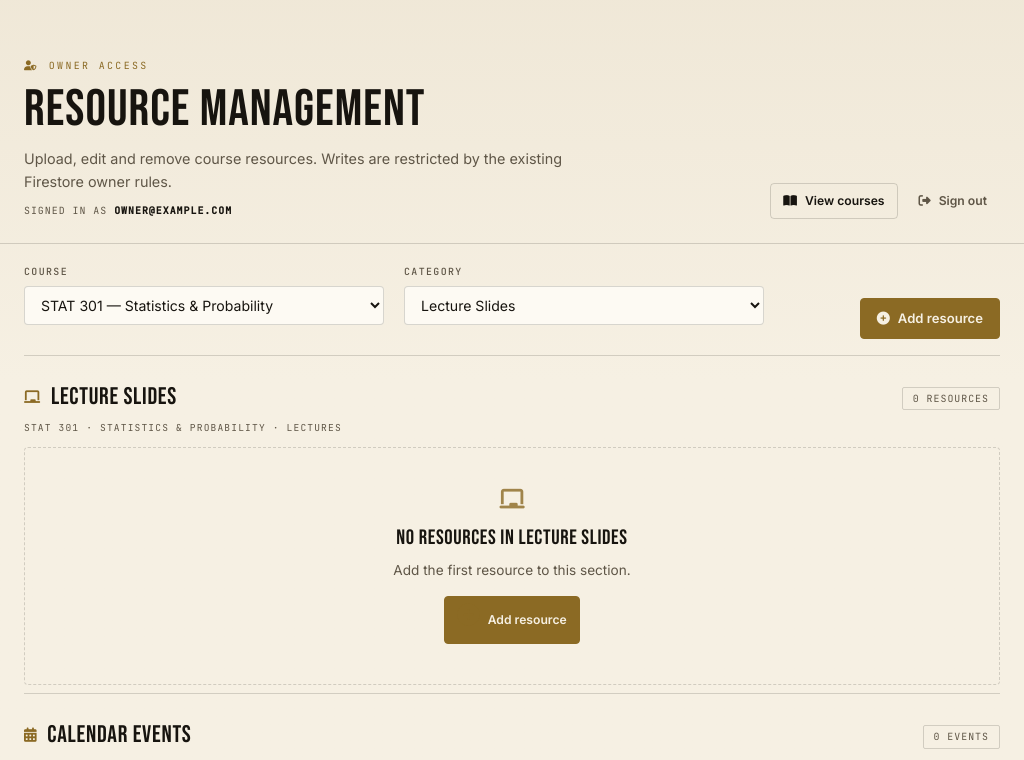
Test: AdminPage resource creation › creates a resource through the confirmed upload path with normalized links
Expected: the heading "No resources in Lecture Slides" is shown, top-left (396, 525), bottom-right (628, 550)
Click the 1st button "Add resource": click(930, 318) top-left (860, 298), bottom-right (1000, 339)
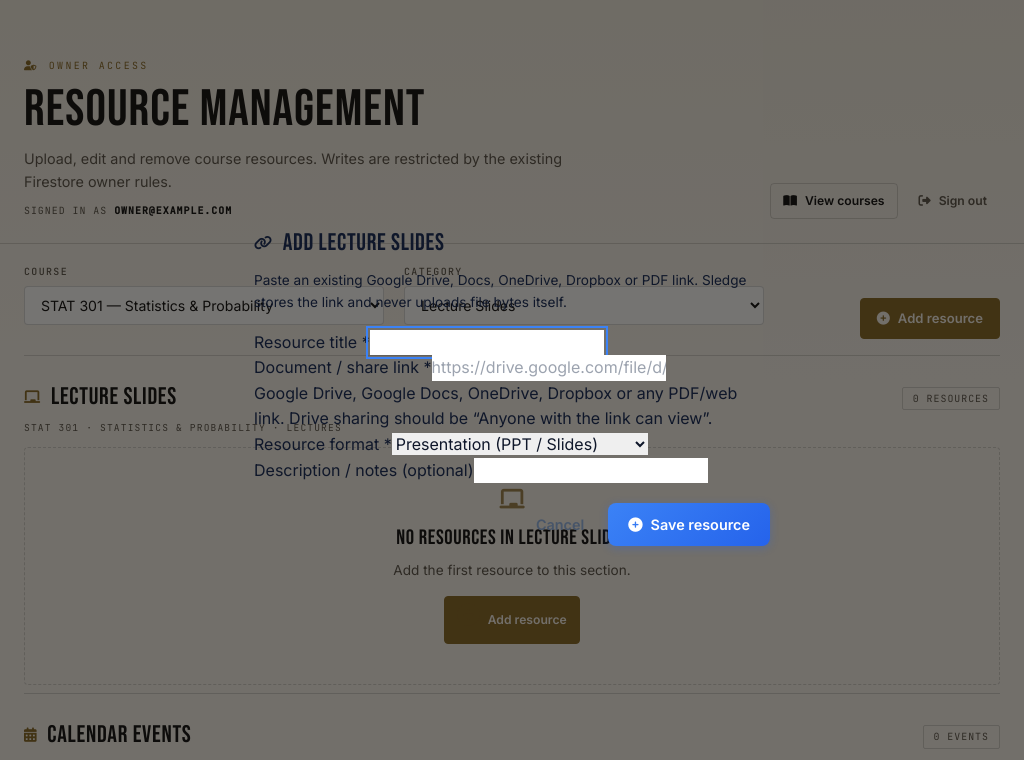
In the field labelled "Resource title *": (487, 342) top-left (370, 330), bottom-right (604, 355), type "Lecture 02"
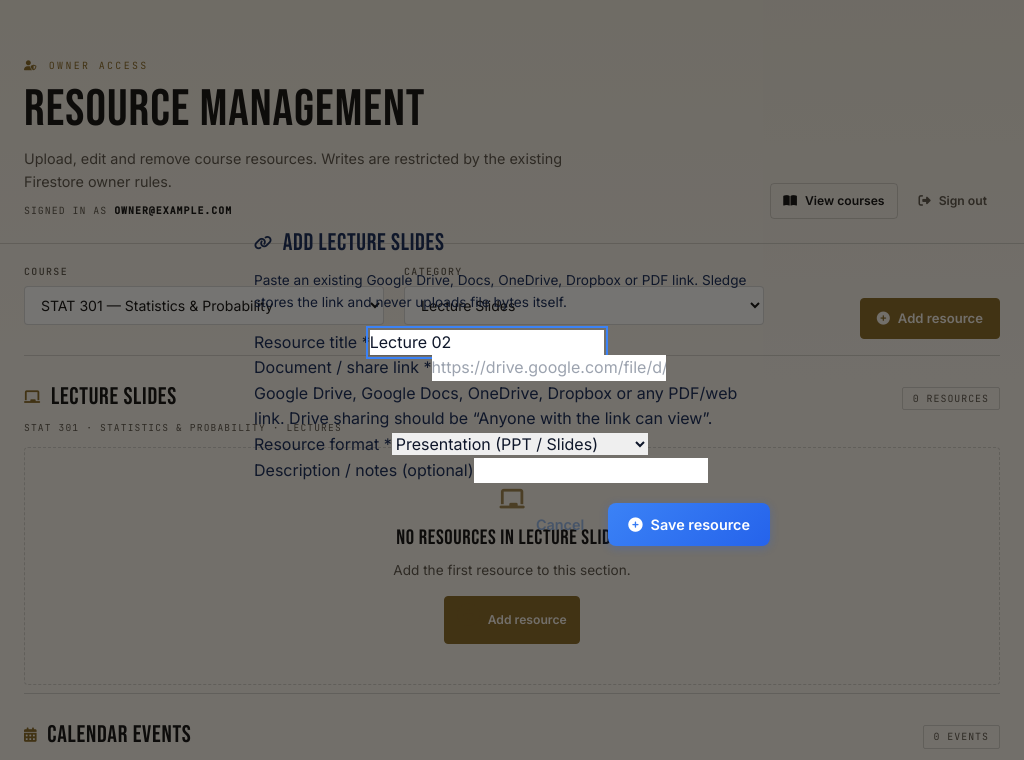
In the field labelled "Document / share link *": (548, 368) top-left (432, 355), bottom-right (666, 381), type "https://drive.google.com/file/d/NEWFILE/view?usp=sharing"
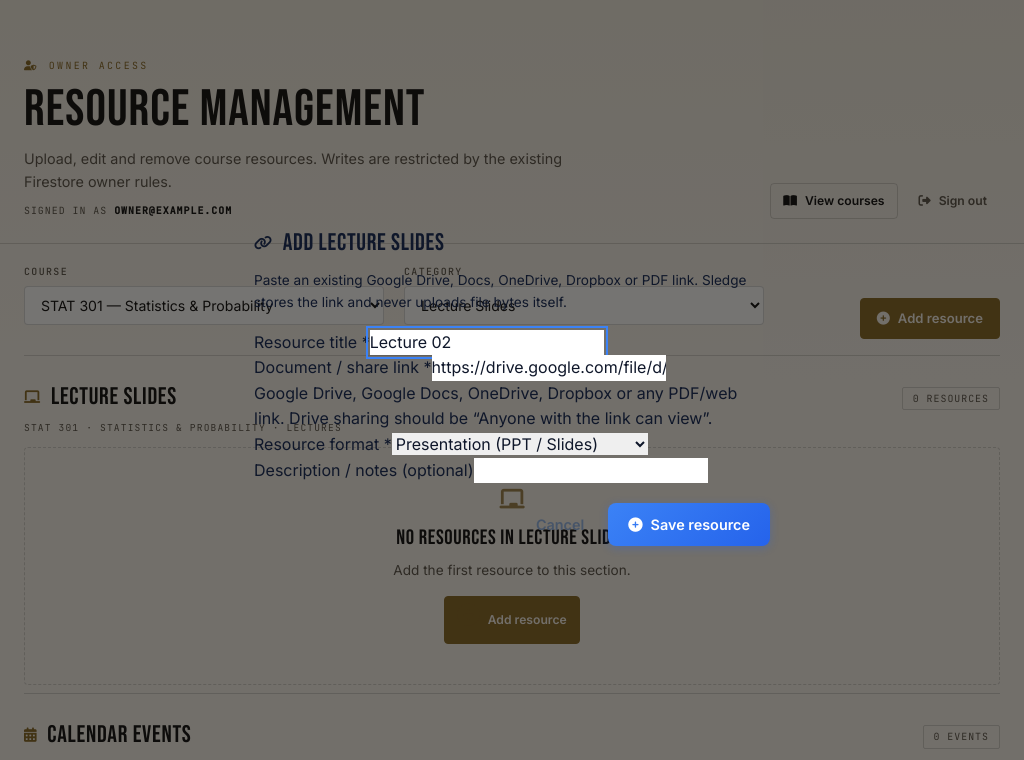
In the field labelled "Description / notes (optional)": (590, 470) top-left (474, 458), bottom-right (708, 483), type "Hazards"
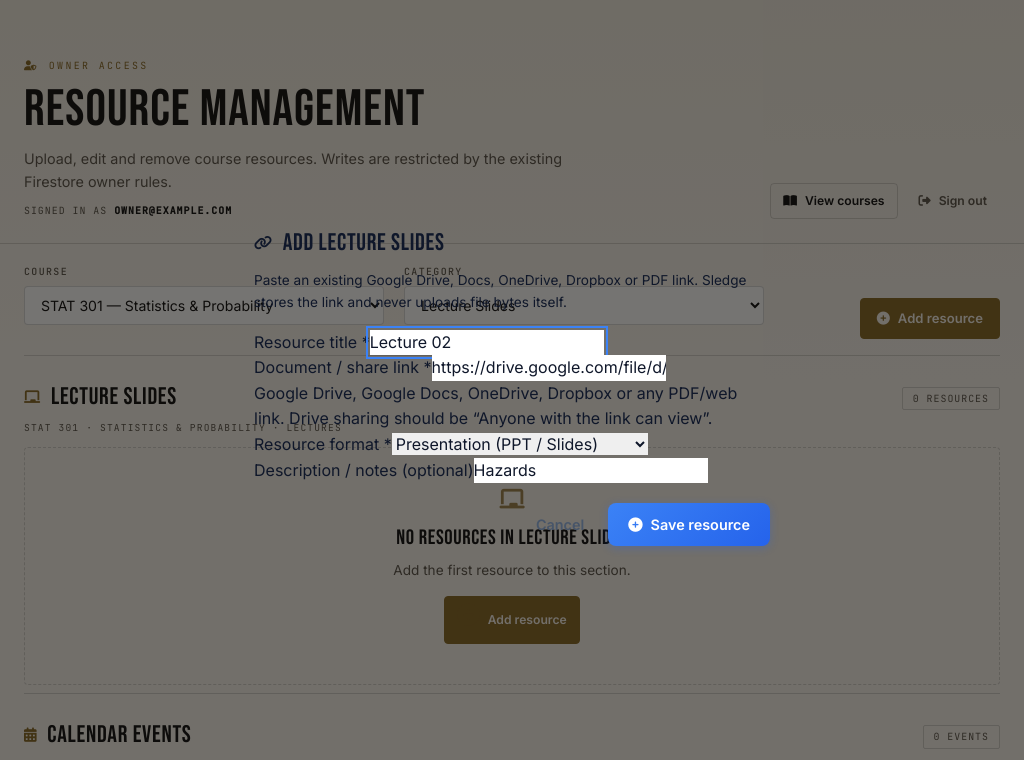
Click the button "Save resource": click(689, 525) top-left (608, 503), bottom-right (770, 546)
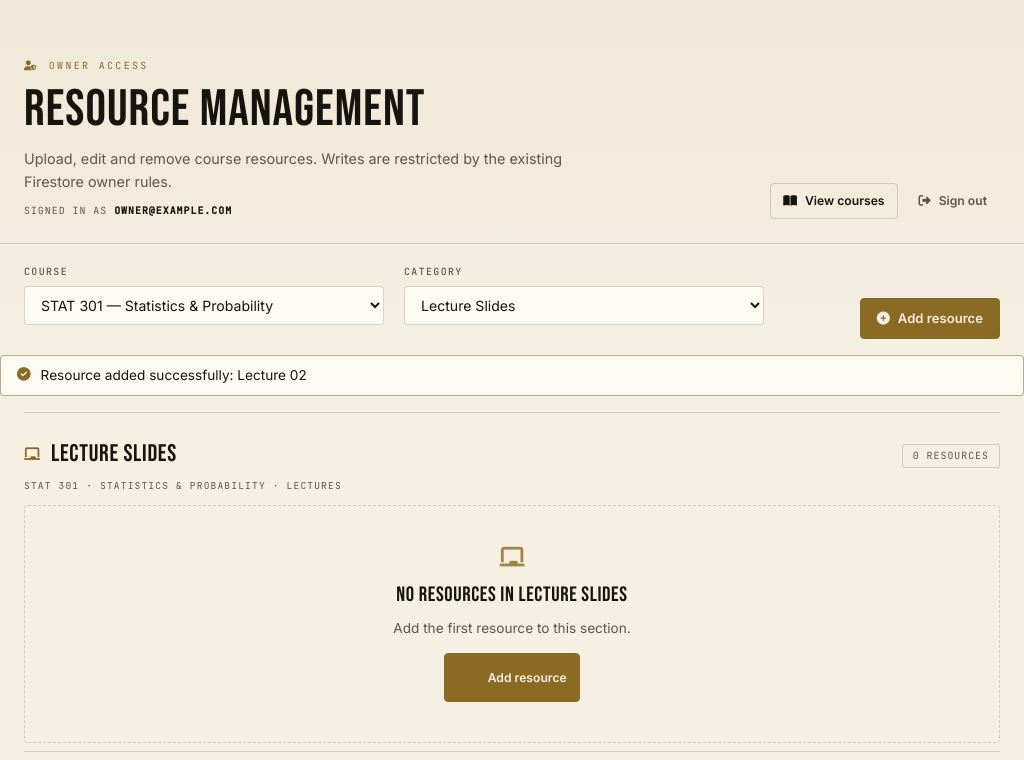
Expected: the text "Resource added successfully: Lecture 02" is shown, top-left (0, 355), bottom-right (1023, 396)
